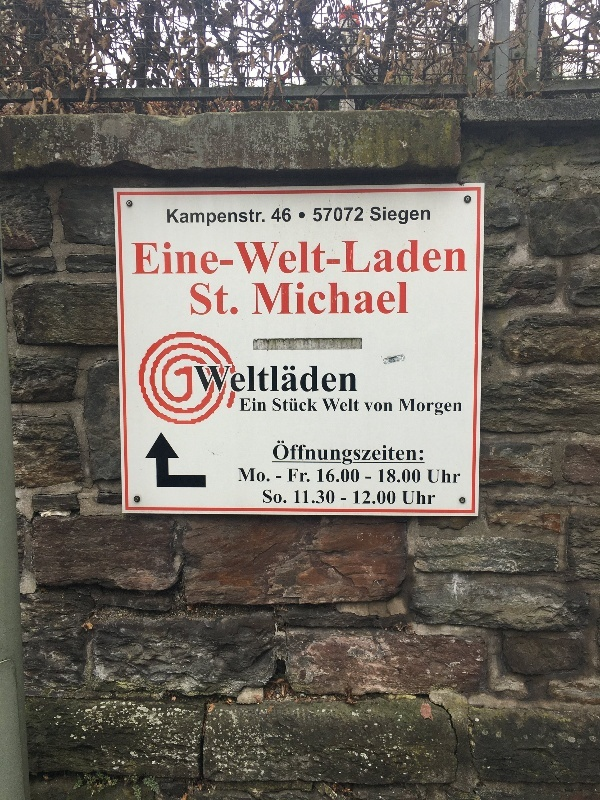text: (193, 281, 208, 317), (209, 281, 224, 317), (241, 241, 256, 276), (257, 241, 272, 276), (273, 241, 288, 276), (289, 241, 304, 276), (305, 241, 320, 276), (353, 239, 368, 274), (369, 239, 384, 274), (385, 239, 400, 274), (401, 239, 416, 274), (417, 239, 432, 274), (433, 239, 448, 274), (449, 239, 464, 274), (257, 282, 272, 316), (273, 282, 288, 316), (289, 282, 304, 316), (305, 282, 320, 316), (321, 282, 336, 316), (337, 282, 352, 316), (353, 282, 368, 316), (369, 282, 384, 316), (385, 282, 400, 316), (145, 242, 160, 276), (161, 242, 176, 276), (177, 242, 192, 276), (193, 242, 208, 276), (225, 281, 239, 317), (273, 439, 288, 472), (289, 439, 304, 472), (305, 439, 320, 472), (321, 439, 336, 472), (337, 439, 352, 472), (353, 439, 368, 472), (369, 439, 384, 472), (385, 439, 400, 472), (401, 439, 416, 472), (131, 242, 144, 276), (209, 365, 224, 393), (225, 365, 240, 393), (241, 365, 256, 393), (257, 365, 272, 393), (273, 365, 288, 393), (289, 365, 304, 393), (305, 365, 320, 393), (321, 365, 336, 393), (337, 365, 352, 393), (194, 365, 208, 393), (341, 239, 352, 274), (209, 242, 220, 276), (385, 207, 400, 231), (401, 207, 416, 231), (177, 209, 192, 230), (193, 209, 208, 230), (209, 209, 224, 230), (225, 209, 240, 230), (241, 209, 256, 230), (371, 207, 384, 231), (417, 207, 430, 231), (401, 398, 416, 417), (417, 398, 432, 417), (433, 398, 448, 417), (401, 282, 409, 316), (417, 439, 425, 472), (433, 468, 448, 485), (321, 468, 336, 485), (337, 468, 352, 485), (241, 467, 256, 484), (449, 398, 462, 417), (385, 468, 400, 484), (401, 468, 416, 484), (289, 468, 304, 484), (321, 207, 336, 223), (337, 207, 352, 223), (257, 467, 271, 484), (353, 490, 368, 505), (369, 490, 384, 505), (449, 468, 462, 485), (241, 398, 256, 412), (273, 398, 288, 412), (289, 398, 304, 412), (337, 398, 352, 412), (273, 489, 287, 504), (401, 491, 416, 505), (417, 491, 432, 505), (234, 241, 240, 276), (305, 490, 320, 504), (322, 398, 336, 412), (321, 490, 335, 504), (276, 207, 288, 223), (167, 209, 176, 230), (305, 398, 318, 412), (353, 207, 364, 223), (321, 241, 326, 276), (257, 209, 265, 230), (385, 490, 396, 505), (369, 402, 384, 412), (353, 365, 358, 393), (257, 398, 267, 412), (294, 490, 304, 504), (252, 282, 256, 316), (263, 489, 272, 504), (353, 468, 360, 485), (378, 468, 384, 484), (427, 468, 432, 485), (353, 398, 359, 412), (385, 402, 393, 412), (305, 468, 310, 484), (315, 207, 320, 223), (327, 259, 336, 267), (225, 259, 234, 267), (465, 239, 467, 274), (417, 468, 421, 484), (433, 491, 437, 505), (317, 468, 320, 485), (289, 207, 292, 223), (341, 497, 352, 501), (191, 281, 192, 317), (276, 476, 288, 479), (238, 467, 240, 484), (337, 259, 341, 267), (220, 259, 224, 267), (365, 402, 368, 412), (399, 398, 400, 417), (287, 468, 288, 484), (365, 477, 368, 480), (369, 477, 371, 480)
